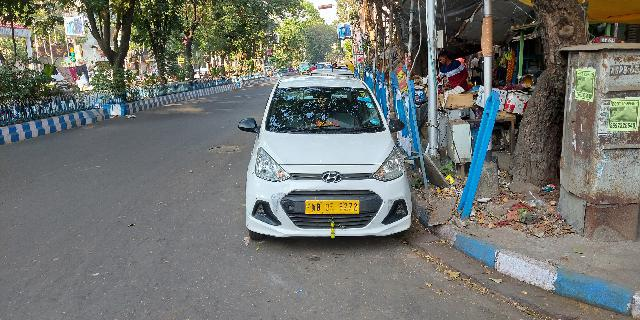Car: (235, 72, 417, 244)
